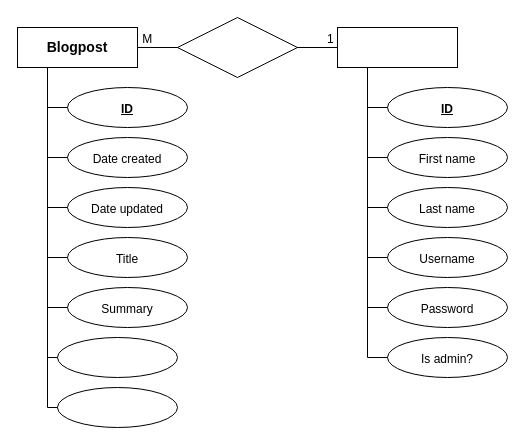
Some shapes in this 525 by 445 pixel diagram are drawn without their labels. Each missing label, with the centre of its shape:
"Author ID" goes at [117,407].
"Content" goes at [117,357].
"User" goes at [397,47].
"writes written by" goes at [237,47].
